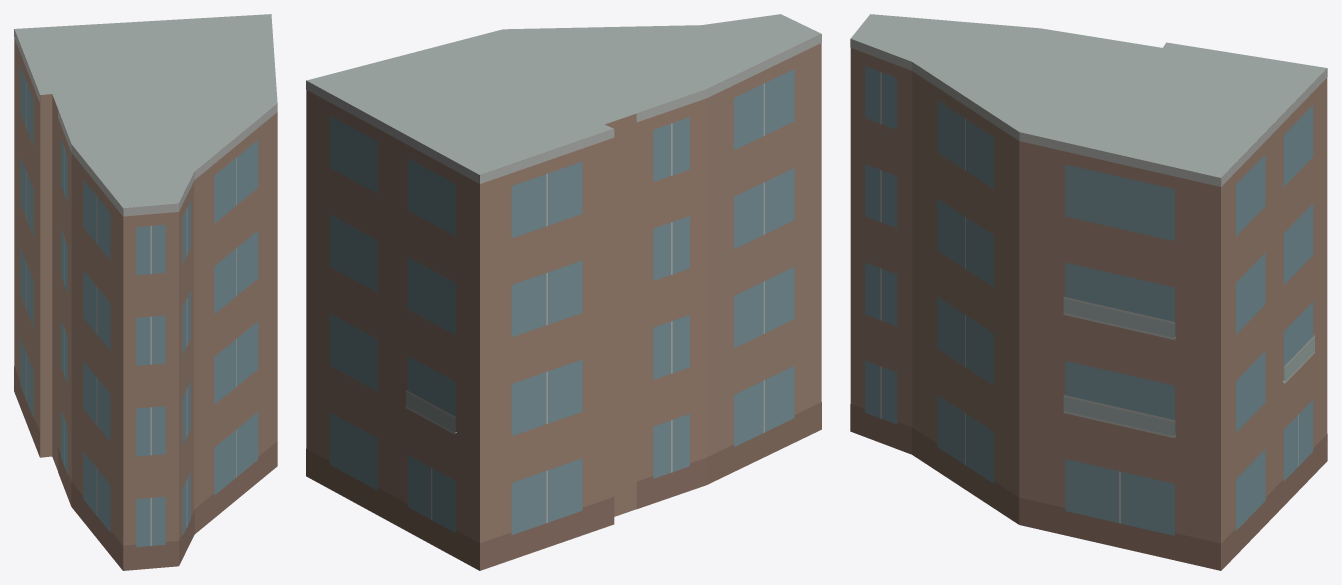
File: survey-upis-32508100.glb
3 renders of one model, left to right at view 1: azimuth 30°, elevation 25°; view 2: azimuth 150°, elevation 25°; view 3: azimuth 270°, elevation 25°, orthographic. The views are drawn at different scales.
Parts seen in each view (by area): view 1: survey-upis-32508100.tmp; view 2: survey-upis-32508100.tmp; view 3: survey-upis-32508100.tmp.
Part boxes in pixels (x1,y1,x2,y2): survey-upis-32508100.tmp: [14, 14, 277, 570]; survey-upis-32508100.tmp: [306, 14, 821, 570]; survey-upis-32508100.tmp: [850, 14, 1327, 570].
Bounding box in the file's own units: 9.55 × 10.65 × 11.73.
